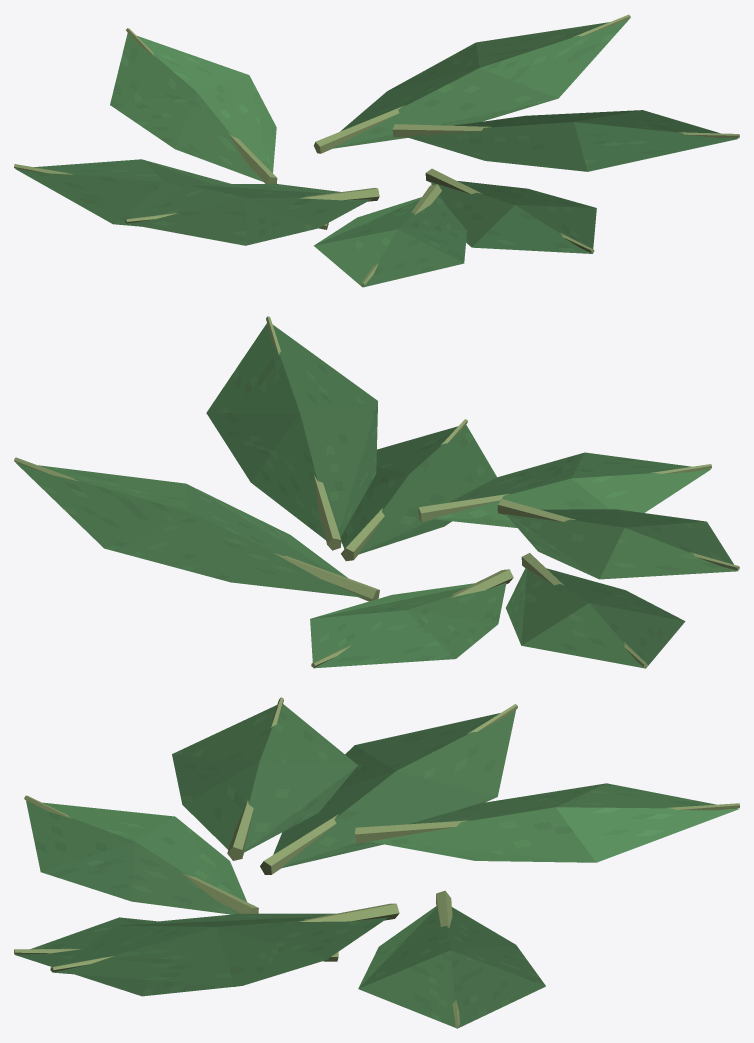
The model's file is kale.glb.
3 views of the same model, one above another, from view 1: azimuth 30°, elevation 25°; view 2: azimuth 150°, elevation 25°; view 3: azimuth 270°, elevation 25° (orthographic). The views are drawn at different scales.
Parts seen in each view (by area): view 1: block_veined leaf blade (×14), block_veined leaf tip (×14), block_veined leaf vein (×6); view 2: block_veined leaf blade (×14), block_veined leaf tip (×14), block_veined leaf vein (×7); view 3: block_veined leaf blade (×13), block_veined leaf tip (×14), block_veined leaf vein (×6).
Boxes of the visible parts, x1=… form: block_veined leaf blade (×14): x1=110, y1=42, x2=641, y2=263; block_veined leaf tip (×14): x1=15, y1=19, x2=738, y2=287; block_veined leaf vein (×6): x1=125, y1=14, x2=739, y2=286; block_veined leaf blade (×14): x1=104, y1=401, x2=705, y2=658; block_veined leaf tip (×14): x1=15, y1=323, x2=737, y2=668; block_veined leaf vein (×7): x1=14, y1=316, x2=739, y2=667; block_veined leaf blade (×13): x1=41, y1=745, x2=605, y2=996; block_veined leaf tip (×14): x1=14, y1=704, x2=738, y2=1028; block_veined leaf vein (×6): x1=24, y1=697, x2=739, y2=1027.
Bounding box in the file's own units: 0.0522 × 0.00736 × 0.046.
2 materials, 2 textured.
